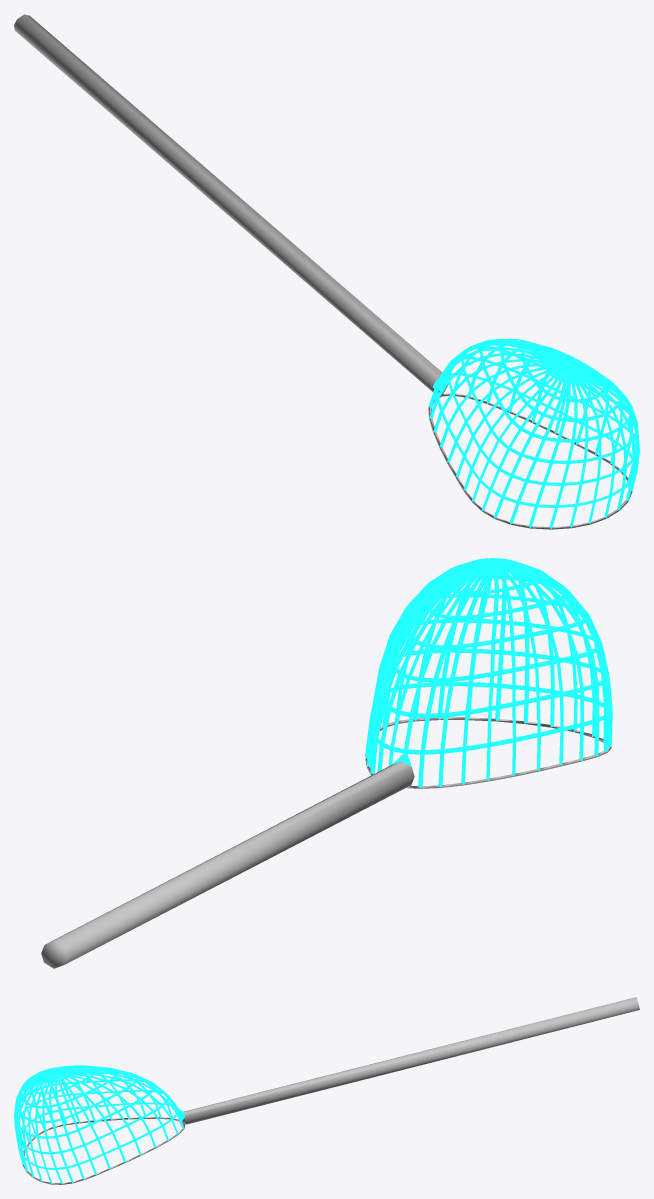
The model's file is Net.fbx.
The picture shows the model from 3 angles, top to bottom: view 1: azimuth 30°, elevation 25°; view 2: azimuth 150°, elevation 25°; view 3: azimuth 270°, elevation 25°; orthographic projection. The views are drawn at different scales.
Parts seen in each view (by area): view 1: Sphere; view 2: Sphere; view 3: Sphere.
Part boxes in pixels (box(x1,y1,x2,y2)): Sphere: box(14, 14, 639, 529); Sphere: box(41, 558, 612, 968); Sphere: box(14, 997, 639, 1184).
Bounding box in the file's own units: 157 × 159 × 676.
